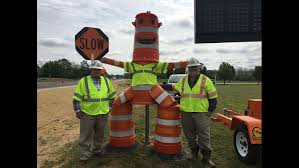barrel: (110, 100, 135, 148), (135, 13, 159, 61), (158, 105, 180, 154)
